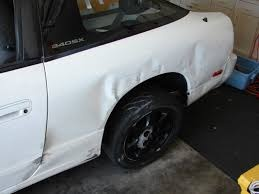Dent: (94, 44, 222, 118)
Scratch: (30, 151, 50, 167)
